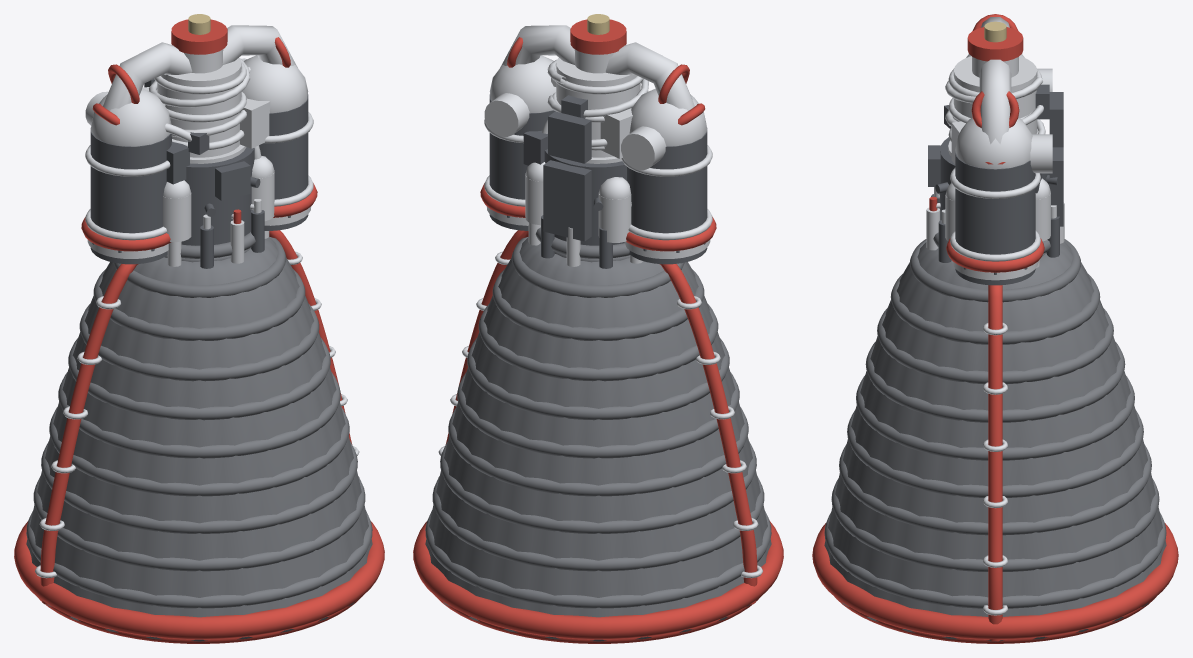
File: RS25_Engine.fbx
3 renders of one model, left to right at view 1: azimuth 30°, elevation 25°; view 2: azimuth 150°, elevation 25°; view 3: azimuth 270°, elevation 25°, orthographic.
Visible parts, largest first — view 1: RS25_Engine; view 2: RS25_Engine; view 3: RS25_Engine.
Boxes of the visible parts, x1,y1,x2,y2 form: RS25_Engine: (14, 14, 384, 643); RS25_Engine: (413, 14, 783, 643); RS25_Engine: (812, 14, 1178, 643).
Bounding box in the file's own units: 268 × 434 × 264.
